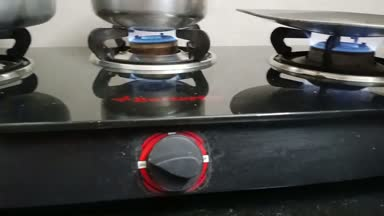flame_gas_on: (99, 20, 215, 194), (284, 26, 384, 79)
